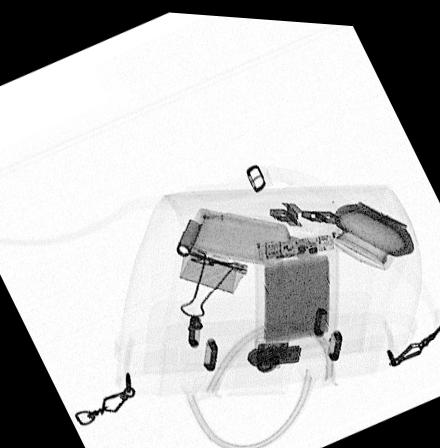Powerbank: (253, 223, 337, 349)
